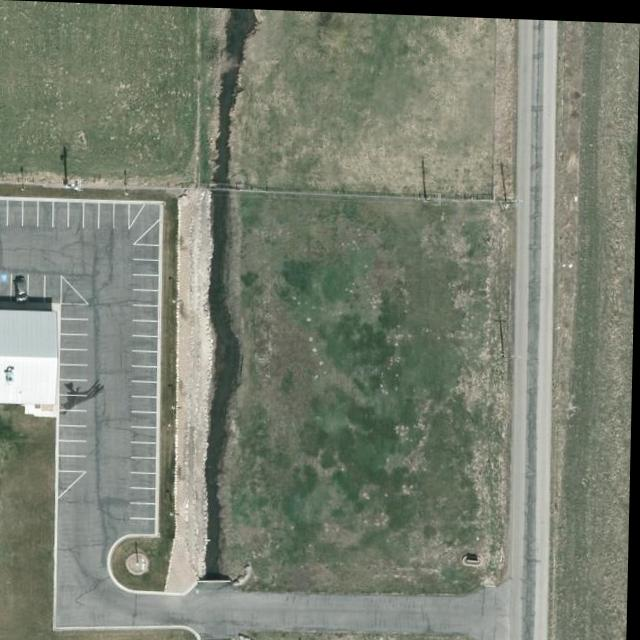vehicle: (15, 279, 30, 305)
